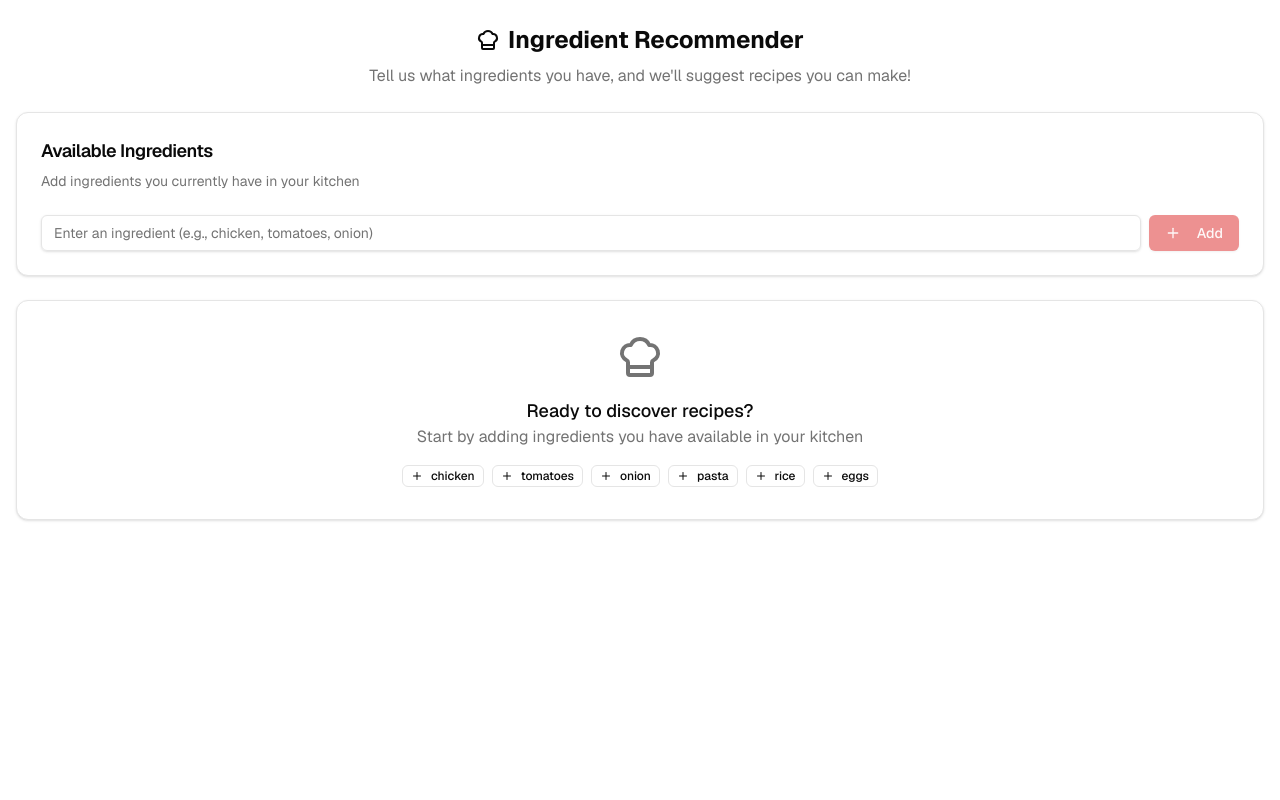
IngredientRecommender › Ingredient Management › should display added ingredients
This screenshot has width=1280, height=800.
Type "salt" into the field with placeholder "Enter an ingredient (e.g., chicken, tomatoes, onion)" at (591, 233), box [41,215,1141,251]
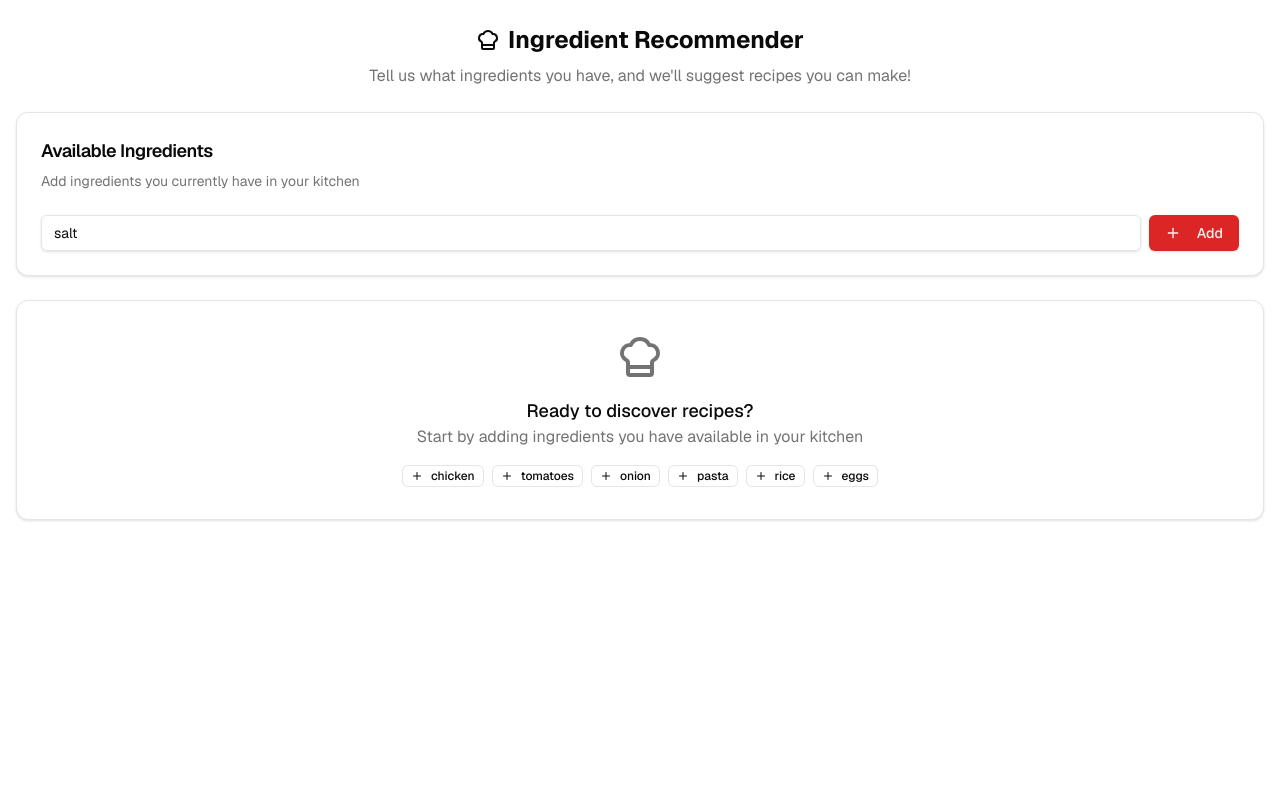
Click the button at (1194, 233), box [1149,215,1239,251]
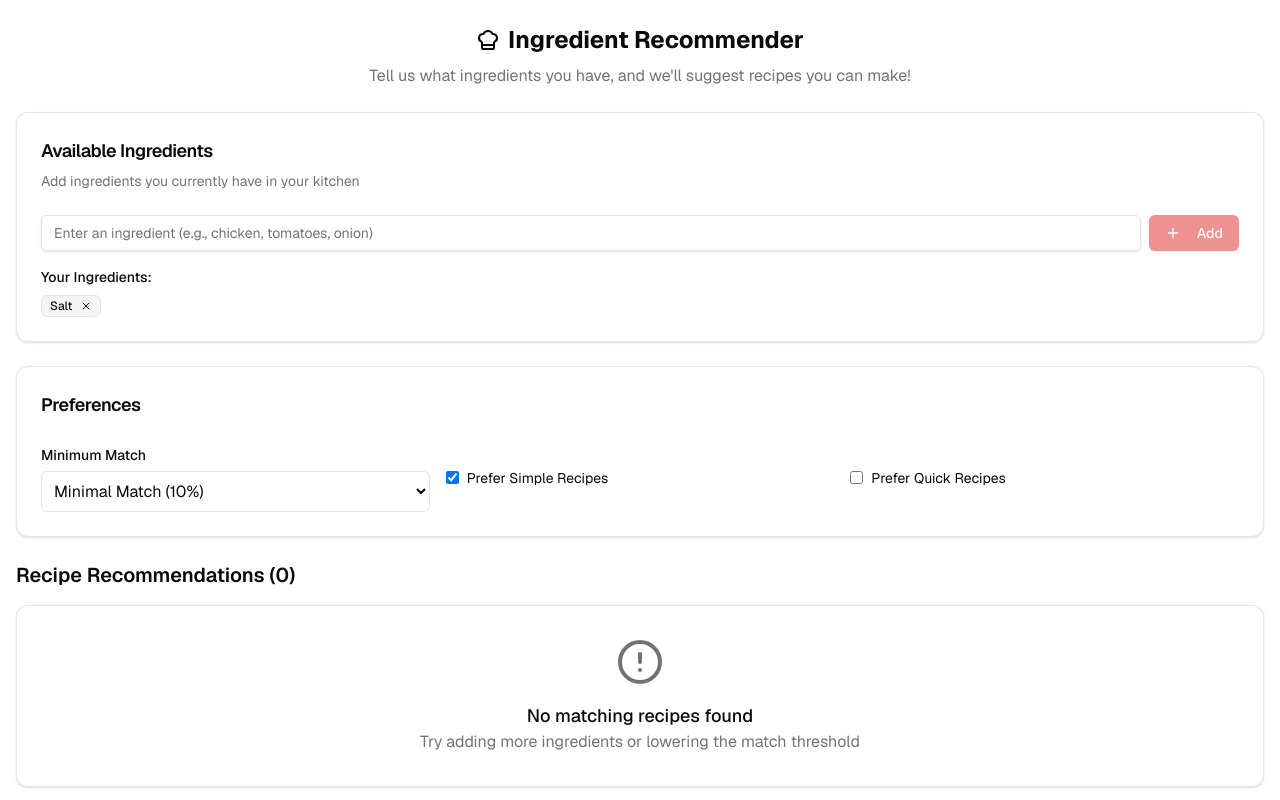
Expected: the text "Your Ingredients:" is shown, [41,268,152,286]
Expected: the text "salt" is shown, [41,295,101,317]
